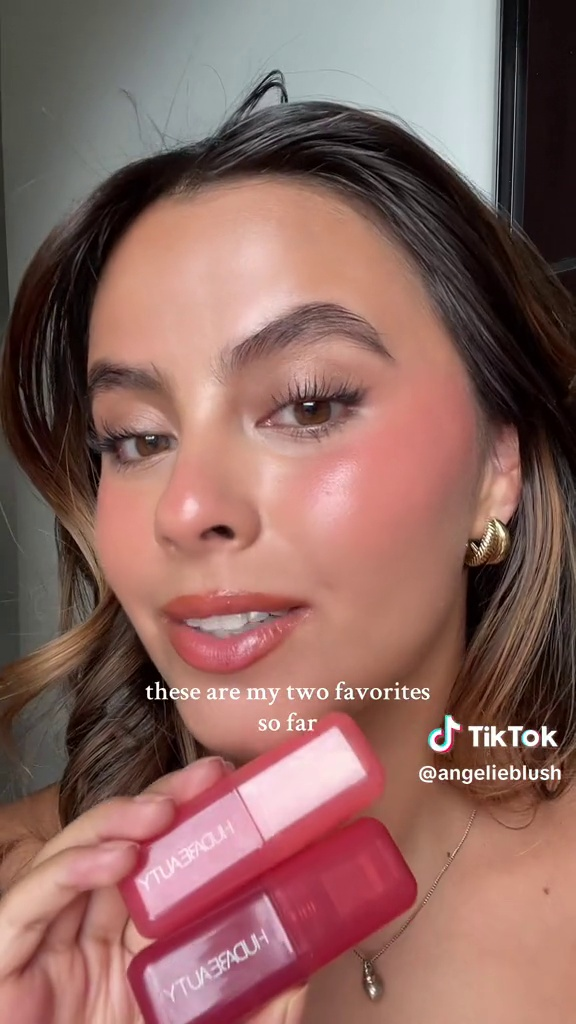train' :'yolo_data/train/images',: (110, 700, 422, 1023)
